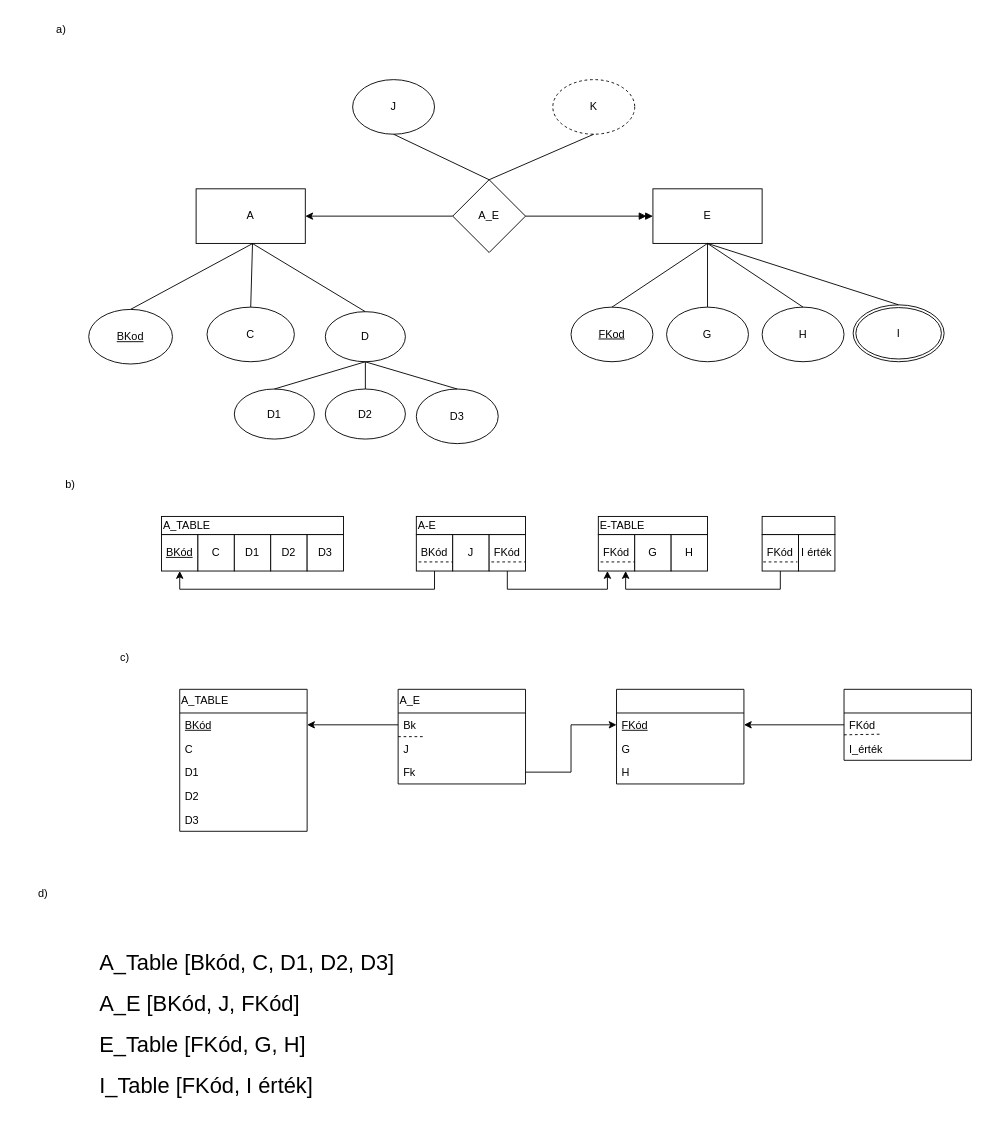
The diagram is 987 pixels wide and 1126 high, and some of its shapes have lost their labels. The shapes that lost their labels are listed below. From the top down, each one's box as (x1, y1, x2, y2) in pixels, then its label:
(761, 516, 835, 535): I-TABLE
(616, 688, 744, 784): E_TABLE
(843, 688, 971, 760): I_TABLE
